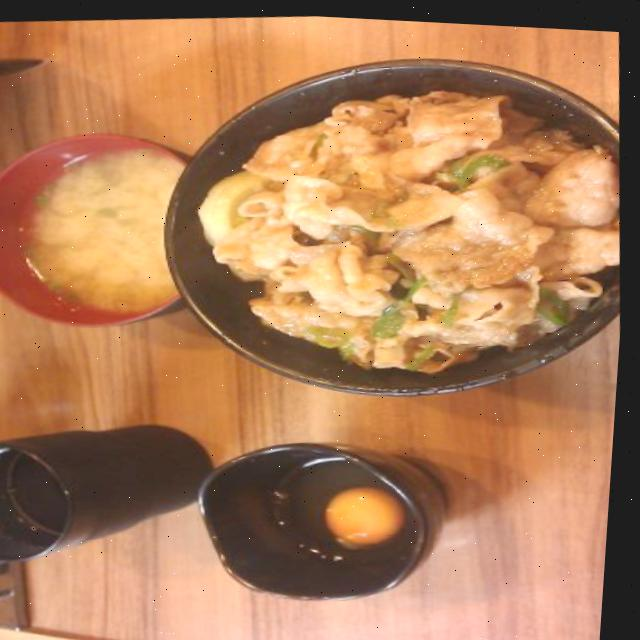汤锅炖物: (0, 123, 197, 344)
